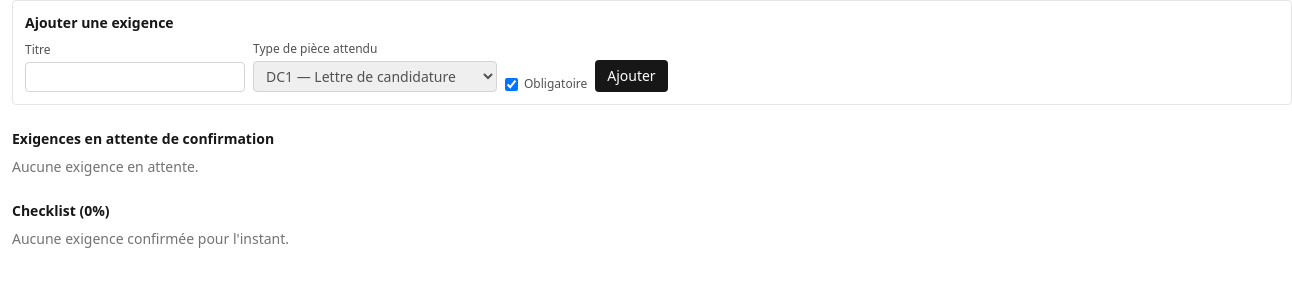
Test: AdministrativeChecklistSection › requires a title before creating a requirement
Click the button "Ajouter" at x=631, y=76, box [595, 60, 668, 92]
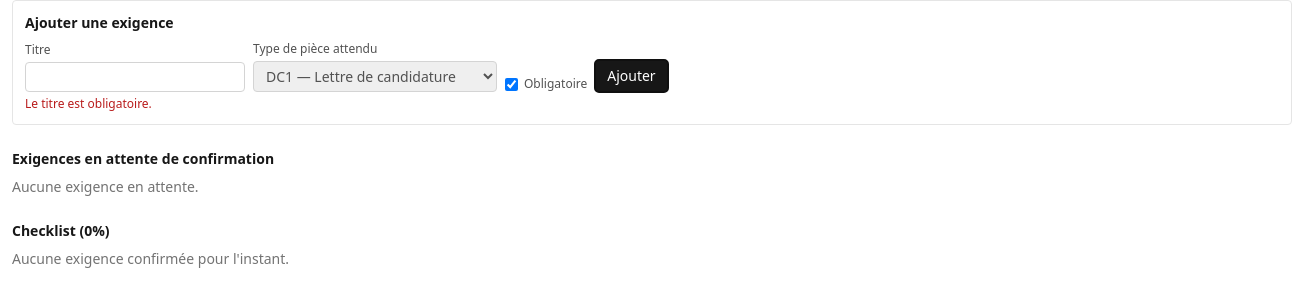
Result: the text "Le titre est obligatoire." is shown at [25, 95, 152, 112]
